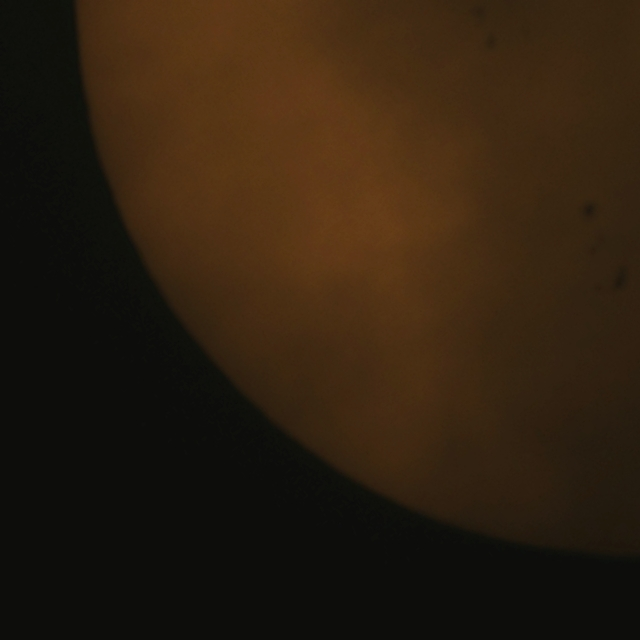sunspot: (456, 0, 506, 64), (605, 268, 640, 316), (572, 193, 614, 231)
